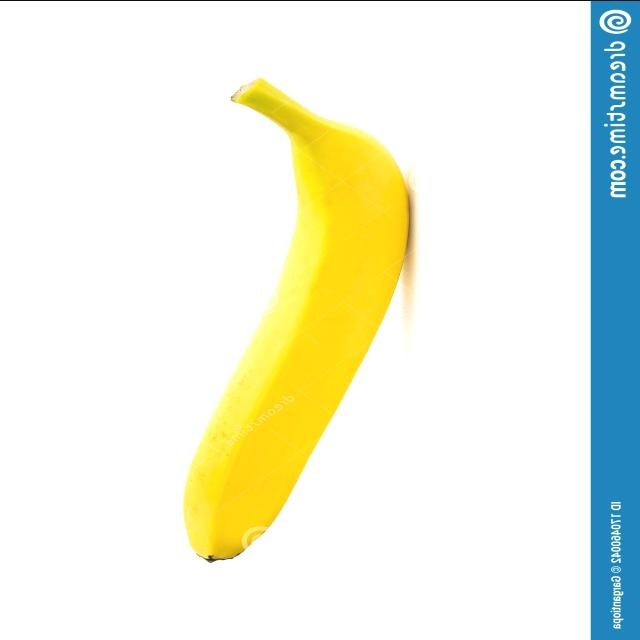agrume: (176, 73, 416, 560)
